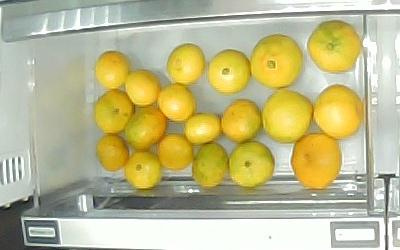tangerine: (251, 34, 304, 88), (308, 20, 362, 73), (262, 89, 314, 144), (290, 135, 342, 190), (314, 84, 364, 139), (230, 141, 275, 188), (207, 49, 251, 95), (125, 105, 167, 150), (94, 89, 134, 134), (222, 99, 262, 142), (166, 43, 205, 86), (193, 142, 229, 188), (158, 83, 196, 123), (125, 151, 162, 189), (94, 51, 129, 90), (158, 133, 193, 170), (184, 111, 223, 144), (96, 134, 129, 172), (127, 70, 159, 106)
